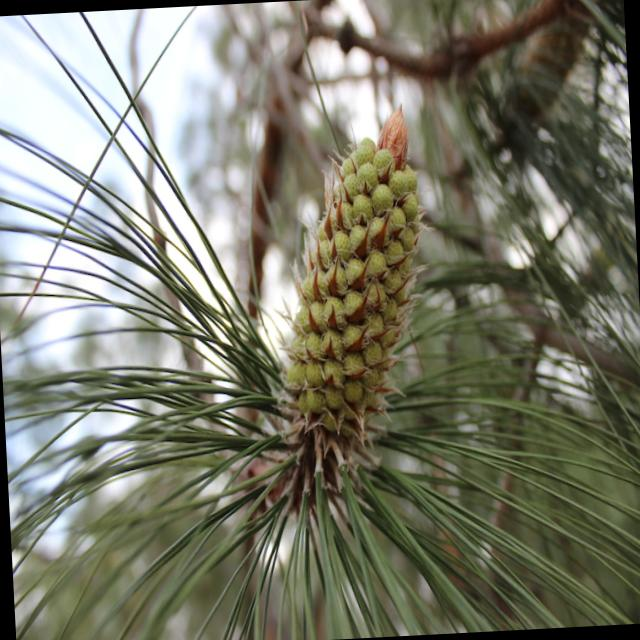Pine: (49, 94, 640, 640), (238, 80, 480, 542)
